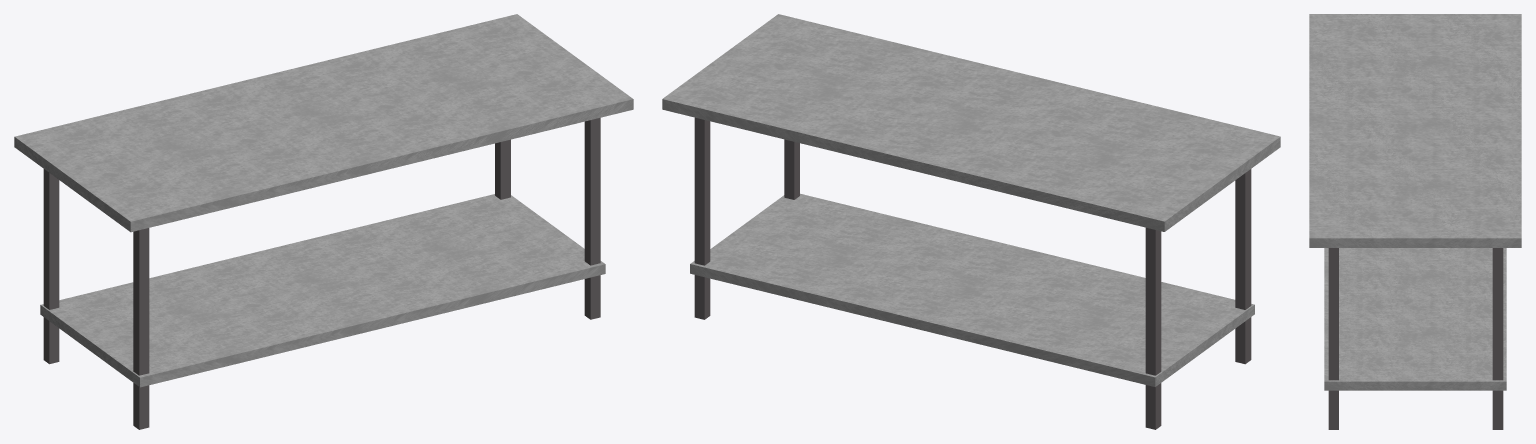
File: BenchL.fbx
3 views of the same model, side by side, from view 1: azimuth 30°, elevation 25°; view 2: azimuth 150°, elevation 25°; view 3: azimuth 270°, elevation 25° (orthographic). The views are drawn at different scales.
Parts seen in each view (by area): view 1: BenchTop, BenchTop.001, BenchLegs; view 2: BenchTop, BenchTop.001, BenchLegs; view 3: BenchTop, BenchTop.001, BenchLegs.
Boxes of the visible parts, box(x1,y1,x2,y2) form: BenchTop: box(14, 14, 633, 232); BenchTop.001: box(40, 194, 605, 387); BenchLegs: box(43, 117, 600, 429); BenchTop: box(662, 14, 1280, 231); BenchTop.001: box(690, 193, 1254, 386); BenchLegs: box(694, 117, 1251, 429); BenchTop: box(1309, 14, 1521, 247); BenchTop.001: box(1324, 248, 1506, 390); BenchLegs: box(1328, 248, 1503, 429).
Bounding box in the file's own units: 250 × 105 × 100.
